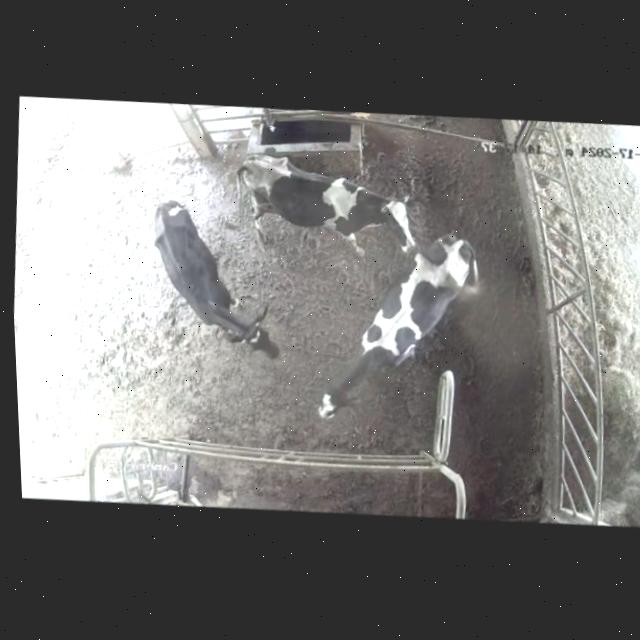stand: (301, 221, 496, 443), (115, 188, 302, 386), (229, 141, 424, 264)
